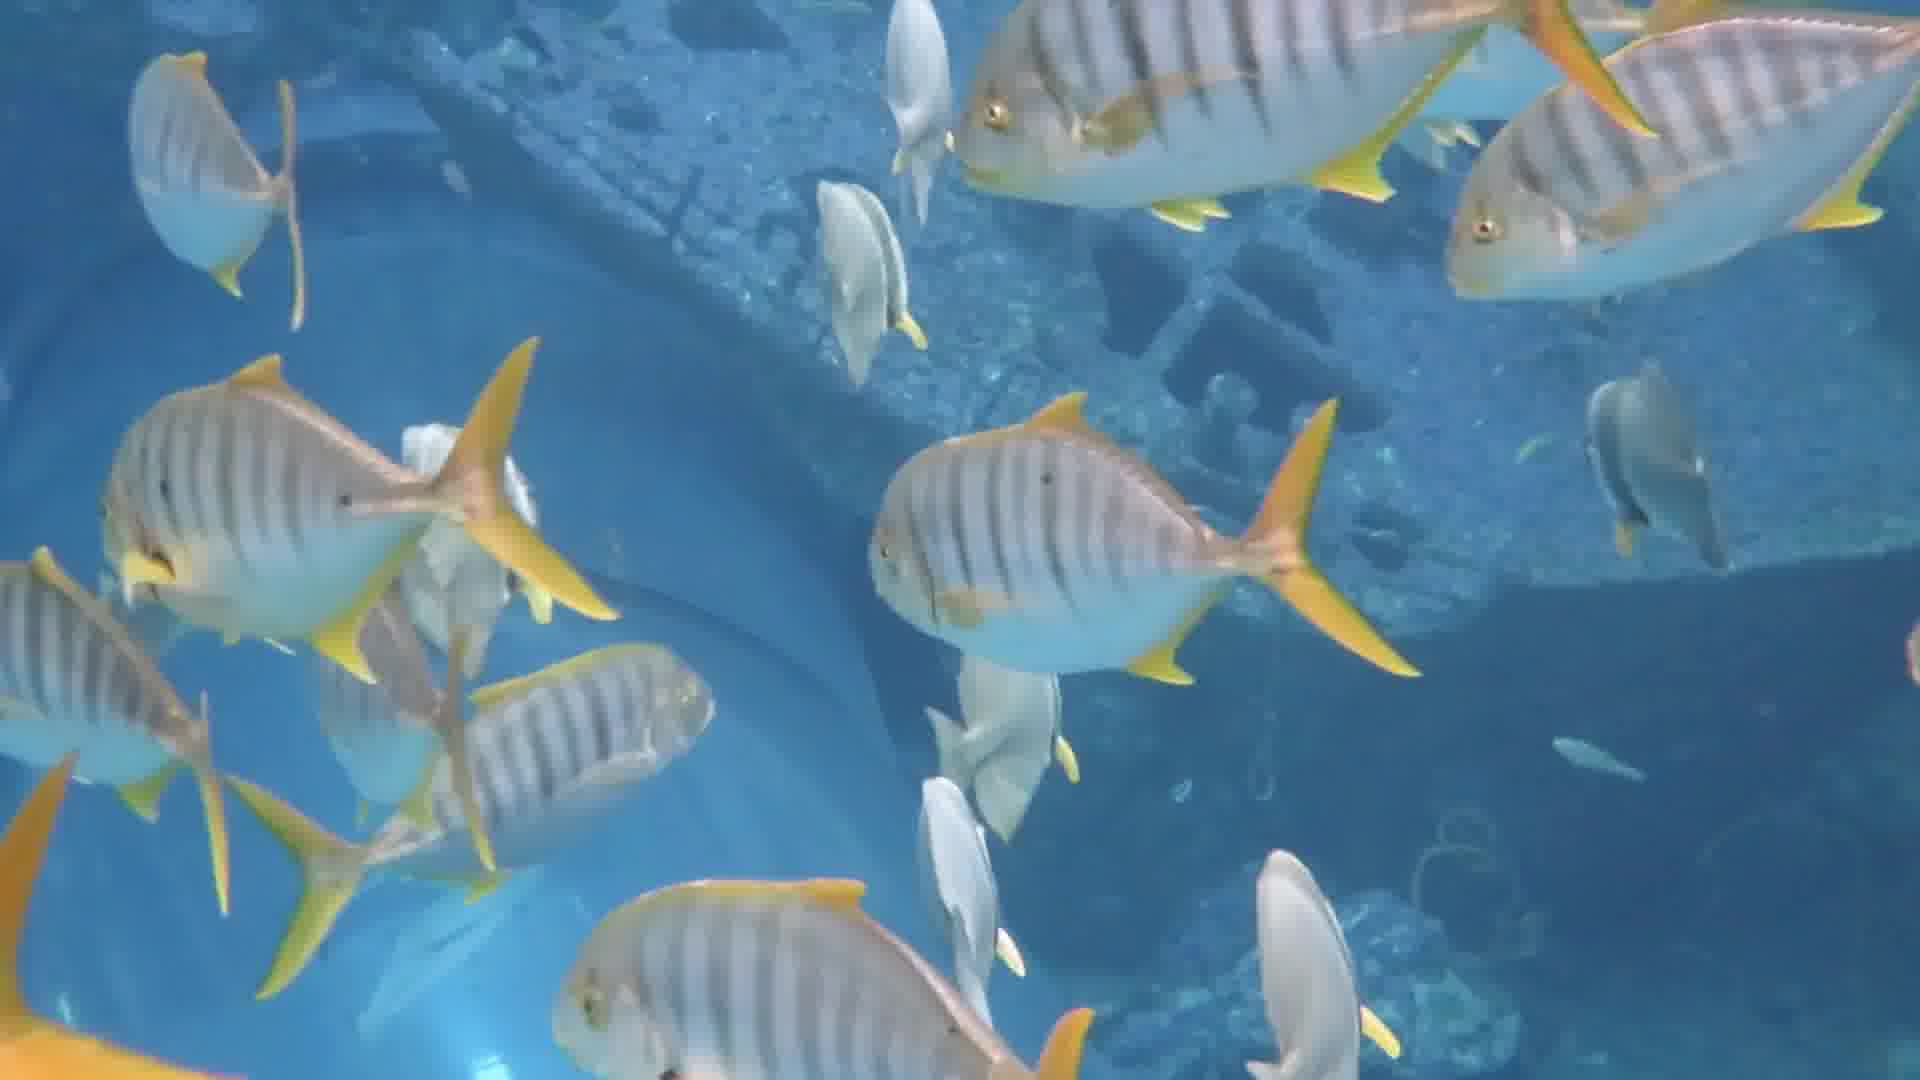Gnathanodon speciosus: (848, 394, 1425, 682), (1447, 4, 1920, 323), (123, 351, 603, 651), (945, 1, 1502, 215), (535, 864, 1083, 1068)
